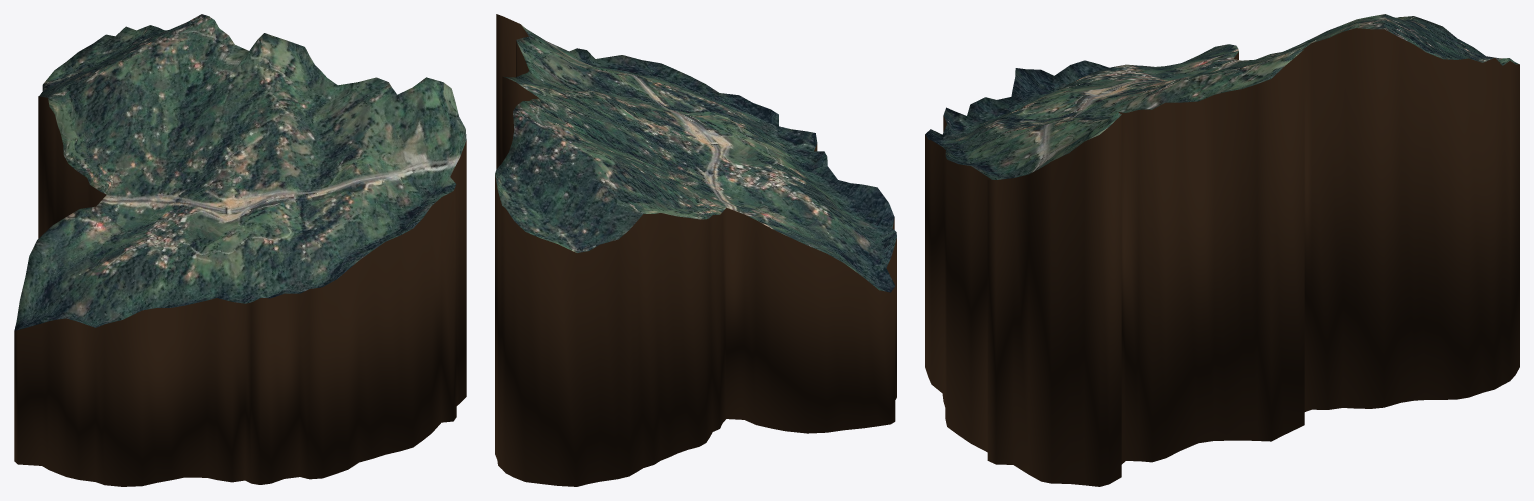
File: LaAldea.fbx
The picture shows the model from 3 angles, left to right: view 1: azimuth 30°, elevation 25°; view 2: azimuth 150°, elevation 25°; view 3: azimuth 270°, elevation 25°; orthographic projection. The views are drawn at different scales.
Visible parts, largest first — view 1: La Aldea; view 2: La Aldea; view 3: La Aldea.
Boxes of the visible parts, bbox=[...] form: La Aldea: bbox=[14, 14, 466, 486]; La Aldea: bbox=[495, 14, 896, 486]; La Aldea: bbox=[925, 14, 1519, 486].
Size of the model in its own units: 194068 by 139420 by 197496.
Materials: 2 (1 with a texture image).
